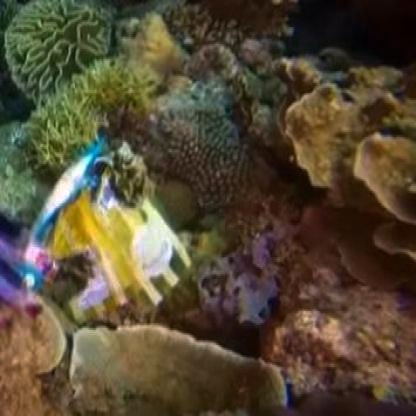plastic: (47, 142, 223, 338)
